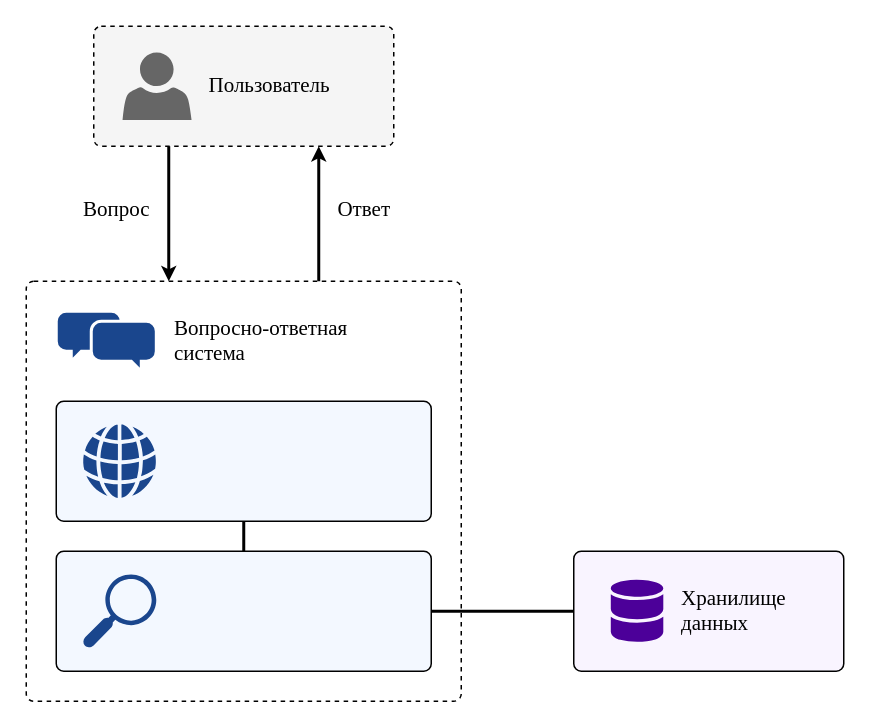
This 870x728 diagram has some shape labels left out. The shapes that lost their labels are listed below. From the top down, each one's centre as x and y in pixels, then its label:
At point 119,460: "Методы обработки естественных языков".
At point 119,610: "Поисковая система".
